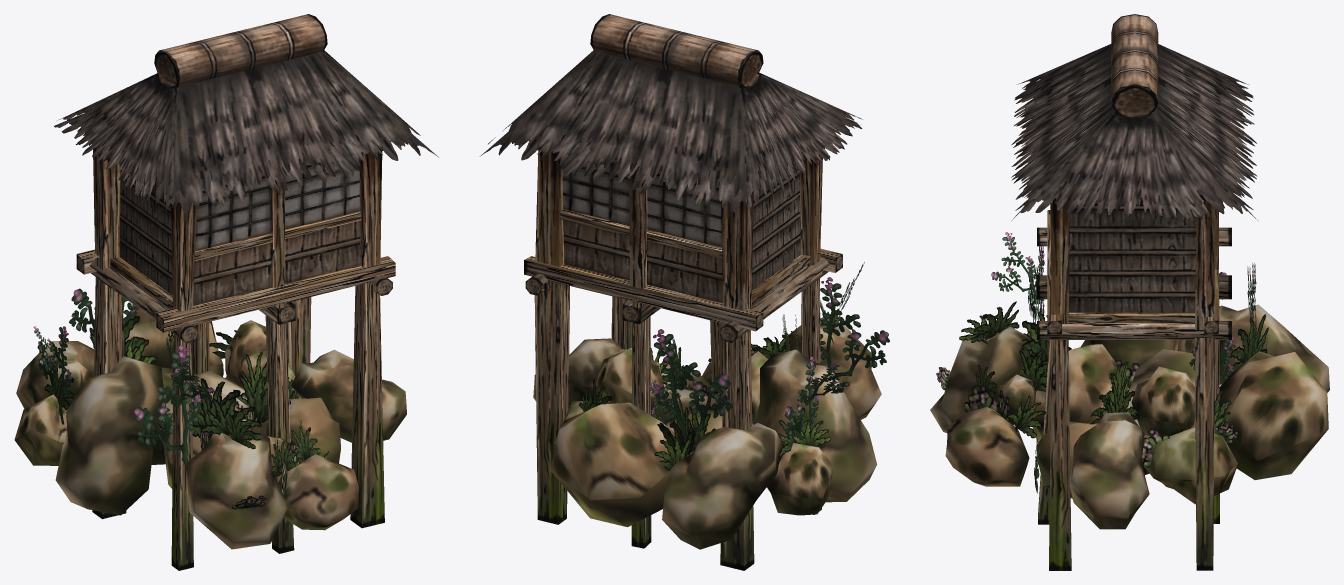
The model's file is STR_WaterMillHouse.FBX.
The picture shows the model from 3 angles, left to right: view 1: azimuth 30°, elevation 25°; view 2: azimuth 150°, elevation 25°; view 3: azimuth 270°, elevation 25°; orthographic projection.
Visible parts, largest first — view 1: STR_WaterMillHouse; view 2: STR_WaterMillHouse; view 3: STR_WaterMillHouse.
Part boxes in pixels (left/top/right/bottom): STR_WaterMillHouse: left=14, top=14, right=438, bottom=570; STR_WaterMillHouse: left=479, top=14, right=889, bottom=570; STR_WaterMillHouse: left=930, top=14, right=1329, bottom=570.
Bounding box in the file's own units: 1302 × 1707 × 1309.
